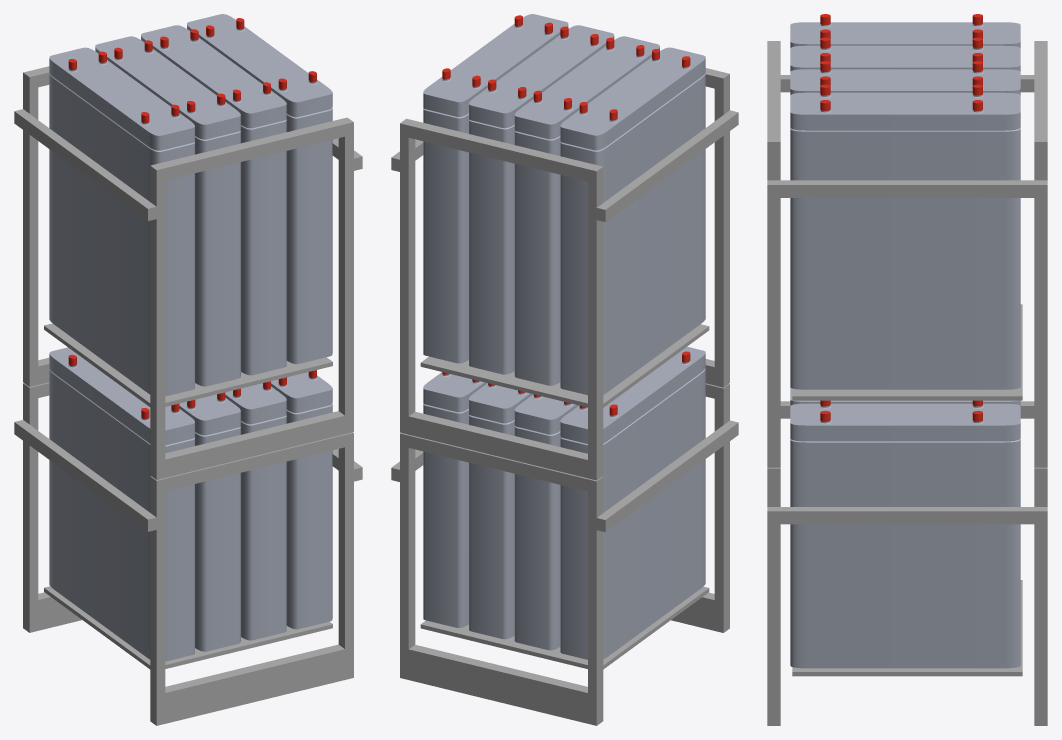
The picture shows the model from 3 angles, left to right: view 1: azimuth 30°, elevation 25°; view 2: azimuth 150°, elevation 25°; view 3: azimuth 270°, elevation 25°; orthographic projection. The views are drawn at different scales.
Parts seen in each view (by area): view 1: RM1-BH17W065D070_01, RM1-BH17W065D070_06; view 2: RM1-BH17W065D070_01, RM1-BH17W065D070_06; view 3: RM1-BH17W065D070_01, RM1-BH17W065D070_06.
Part boxes in pixels (x1,y1,x2,y2): RM1-BH17W065D070_01: (49, 14, 332, 661); RM1-BH17W065D070_06: (14, 66, 362, 725); RM1-BH17W065D070_01: (423, 14, 705, 659); RM1-BH17W065D070_06: (391, 68, 738, 725); RM1-BH17W065D070_01: (790, 14, 1020, 668); RM1-BH17W065D070_06: (767, 41, 1047, 725).
Size of the model in its own units: 0.65 by 1.7 by 0.7.
